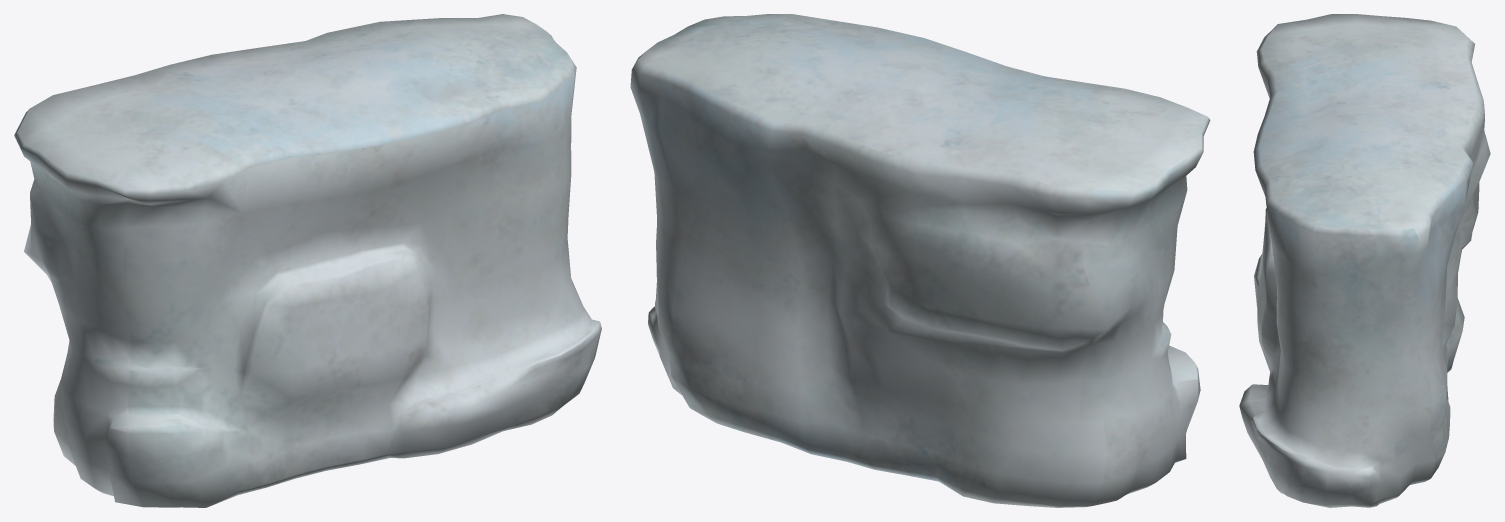
Rendered from P_RockDesert_CliffC06.obj.
3 renders of one model, left to right at view 1: azimuth 30°, elevation 25°; view 2: azimuth 150°, elevation 25°; view 3: azimuth 270°, elevation 25°, orthographic. The views are drawn at different scales.
Size of the model in its own units: 82.47 by 52.72 by 39.36.
